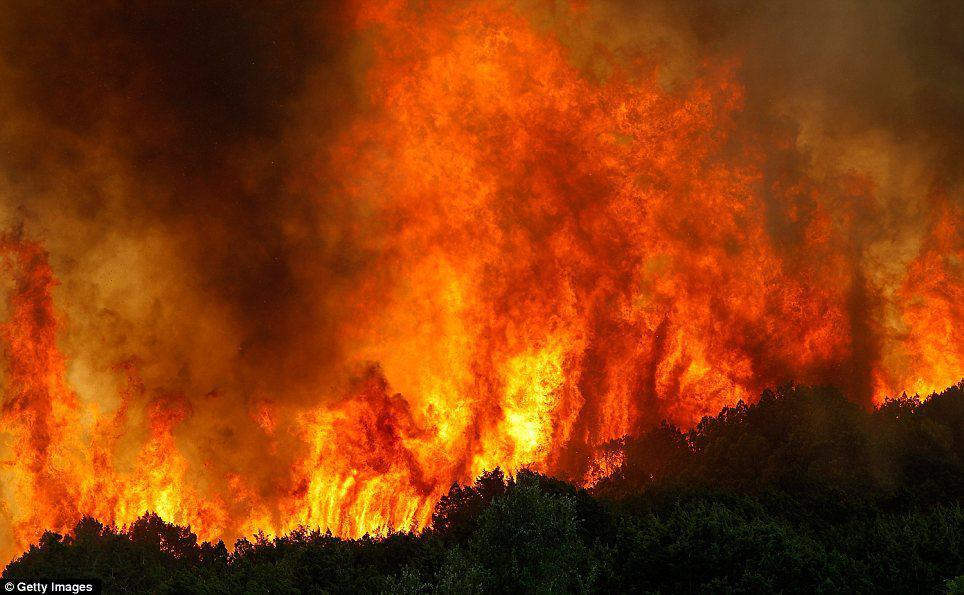fire: (296, 5, 962, 543), (0, 177, 190, 548), (192, 453, 312, 543)
